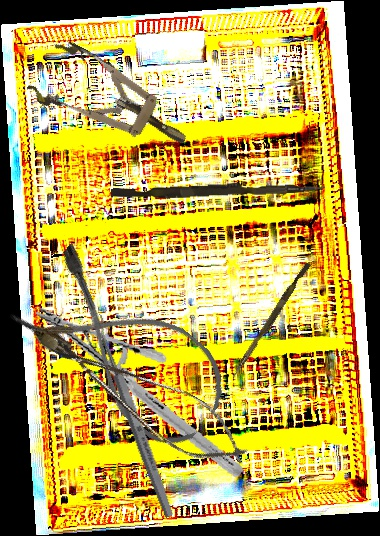Cannula: (7, 238, 243, 459)
Micro Scissor: (37, 321, 260, 482)
Needle Holder: (13, 304, 266, 479)
Pusher: (231, 260, 311, 381), (110, 177, 326, 203)
Speculum: (23, 33, 201, 172)
Surgical Spoon: (89, 313, 177, 519)
